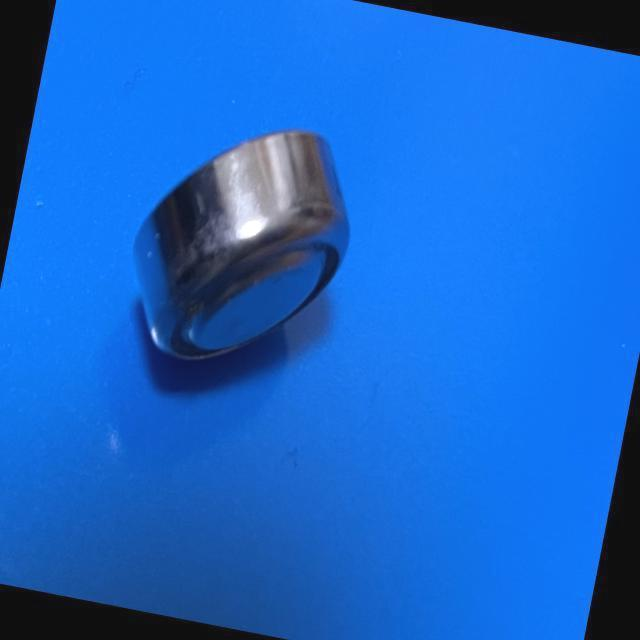COIN: (112, 100, 370, 390)
